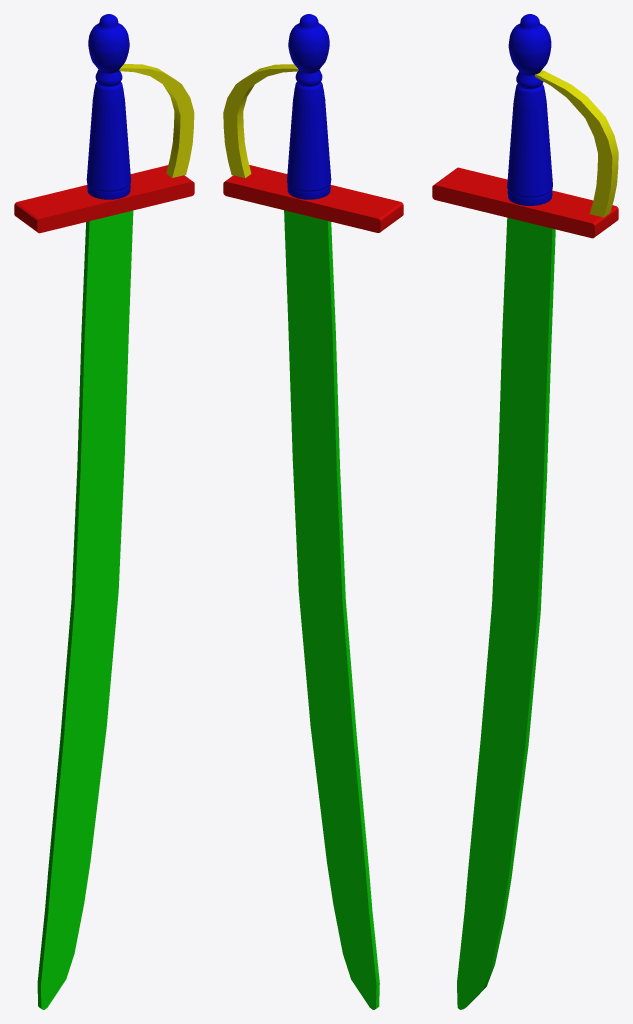
The model's file is Pirate_Sword.fbx.
3 views of the same model, side by side, from view 1: azimuth 30°, elevation 25°; view 2: azimuth 150°, elevation 25°; view 3: azimuth 330°, elevation 25° (orthographic). The views are drawn at different scales.
Parts seen in each view (by area): view 1: Pirate_Sword; view 2: Pirate_Sword; view 3: Pirate_Sword.
Part boxes in pixels (<box>): Pirate_Sword: <box>14,14,194,1009</box>; Pirate_Sword: <box>223,14,403,1009</box>; Pirate_Sword: <box>432,14,618,1009</box>.
Bounding box in the file's own units: 0.1896 × 1.07 × 0.0456.
